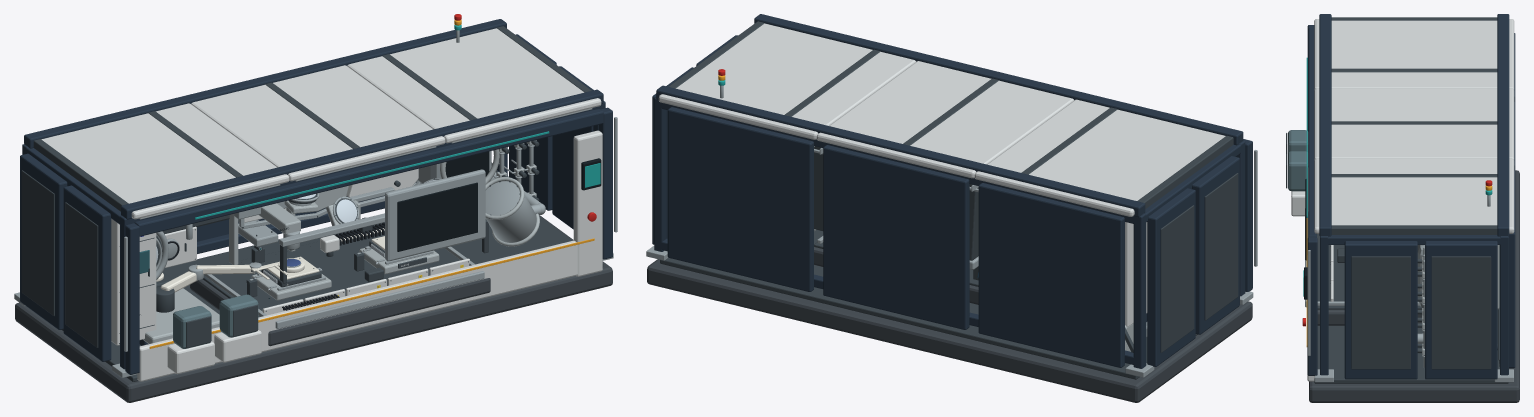
Rendered from euv_training_machine.glb.
3 renders of one model, left to right at view 1: azimuth 30°, elevation 25°; view 2: azimuth 150°, elevation 25°; view 3: azimuth 270°, elevation 25°, orthographic. The views are drawn at different scales.
Parts seen in each view (by area): view 1: m__enclosure_roof_1__roof_tile, m__enclosure_roof_2__roof_tile, m__enclosure_roof_0__roof_tile, m__frame_base__wide_plinth, m__enclosure_front_door_2__lower_front_skirt, m__enclosure_header__header_beam, m__frame_overhead_service_gantry__upper_box_beam, m__frame_overhead_service_gantry__upper_box_beam_02, m__wafer_stage_base__precision_top, m__enclosure_left_0__side_skin, m__enclosure_left_1__side_skin, m__enclosure_optical_window__window_opening (+41 smaller); view 2: m__enclosure_rear_2__rear_frame, m__enclosure_rear_1__rear_frame, m__enclosure_rear_0__rear_frame, m__enclosure_roof_1__roof_tile, m__frame_base__wide_plinth, m__enclosure_roof_2__roof_tile, m__enclosure_roof_0__roof_tile, m__frame_overhead_service_gantry__upper_box_beam_02, m__frame_overhead_service_gantry__upper_box_beam, m__frame_base__precision_deck, m__enclosure_left_0__side_skin, m__enclosure_left_1__side_skin (+16 smaller); view 3: m__enclosure_roof_1__roof_tile, m__enclosure_roof_0__roof_tile, m__enclosure_roof_2__roof_tile, m__enclosure_right_1__side_skin, m__enclosure_right_0__side_skin, m__frame_base__wide_plinth, m__enclosure_right_0__side_panel, m__enclosure_right_1__side_panel, m__frame_overhead_service_gantry__upper_box_beam_02, m__frame_overhead_service_gantry__upper_box_beam, m__frame_base__precision_deck, m__frame_overhead_service_gantry__roof_crossmember_05 (+18 smaller).
Boxes of the visible parts, x1=… form: m__enclosure_roof_1__roof_tile: x1=191, y1=65, x2=445, y2=181; m__enclosure_roof_2__roof_tile: x1=347, y1=28, x2=601, y2=143; m__enclosure_roof_0__roof_tile: x1=41, y1=103, x2=289, y2=219; m__frame_base__wide_plinth: x1=15, y1=215, x2=612, y2=402; m__enclosure_front_door_2__lower_front_skirt: x1=137, y1=240, x2=577, y2=381; m__enclosure_header__header_beam: x1=134, y1=109, x2=603, y2=236; m__frame_overhead_service_gantry__upper_box_beam: x1=121, y1=89, x2=603, y2=219; m__frame_overhead_service_gantry__upper_box_beam_02: x1=24, y1=19, x2=506, y2=148; m__wafer_stage_base__precision_top: x1=203, y1=231, x2=460, y2=317; m__enclosure_left_0__side_skin: x1=65, y1=202, x2=98, y2=347; m__enclosure_left_1__side_skin: x1=21, y1=170, x2=54, y2=315; m__enclosure_optical_window__window_opening: x1=397, y1=182, x2=477, y2=251; m__enclosure_rear_2__rear_frame: x1=667, y1=107, x2=813, y2=291; m__enclosure_rear_1__rear_frame: x1=823, y1=145, x2=969, y2=329; m__enclosure_rear_0__rear_frame: x1=978, y1=183, x2=1124, y2=367; m__enclosure_roof_1__roof_tile: x1=816, y1=61, x2=1073, y2=178; m__frame_base__wide_plinth: x1=647, y1=259, x2=1252, y2=402; m__enclosure_roof_2__roof_tile: x1=658, y1=23, x2=915, y2=139; m__enclosure_roof_0__roof_tile: x1=974, y1=99, x2=1225, y2=216; m__frame_overhead_service_gantry__upper_box_beam_02: x1=656, y1=85, x2=1145, y2=217; m__frame_overhead_service_gantry__upper_box_beam: x1=754, y1=14, x2=1243, y2=145; m__frame_base__precision_deck: x1=660, y1=230, x2=1197, y2=379; m__enclosure_left_0__side_skin: x1=1204, y1=173, x2=1238, y2=320; m__enclosure_left_1__side_skin: x1=1160, y1=205, x2=1194, y2=352; m__enclosure_roof_1__roof_tile: x1=1314, y1=89, x2=1514, y2=160; m__enclosure_roof_0__roof_tile: x1=1314, y1=19, x2=1514, y2=90; m__enclosure_roof_2__roof_tile: x1=1314, y1=159, x2=1514, y2=233; m__enclosure_right_1__side_skin: x1=1431, y1=256, x2=1491, y2=369; m__enclosure_right_0__side_skin: x1=1351, y1=256, x2=1410, y2=369; m__frame_base__wide_plinth: x1=1309, y1=170, x2=1519, y2=402; m__enclosure_right_0__side_panel: x1=1344, y1=241, x2=1417, y2=379; m__enclosure_right_1__side_panel: x1=1425, y1=241, x2=1497, y2=379; m__frame_overhead_service_gantry__upper_box_beam_02: x1=1497, y1=14, x2=1509, y2=236; m__frame_overhead_service_gantry__upper_box_beam: x1=1319, y1=14, x2=1331, y2=236; m__frame_base__precision_deck: x1=1314, y1=309, x2=1508, y2=383; m__frame_overhead_service_gantry__roof_crossmember_05: x1=1331, y1=225, x2=1497, y2=234.
Size of the model in its own units: 9.64 by 4.03 by 4.23.
